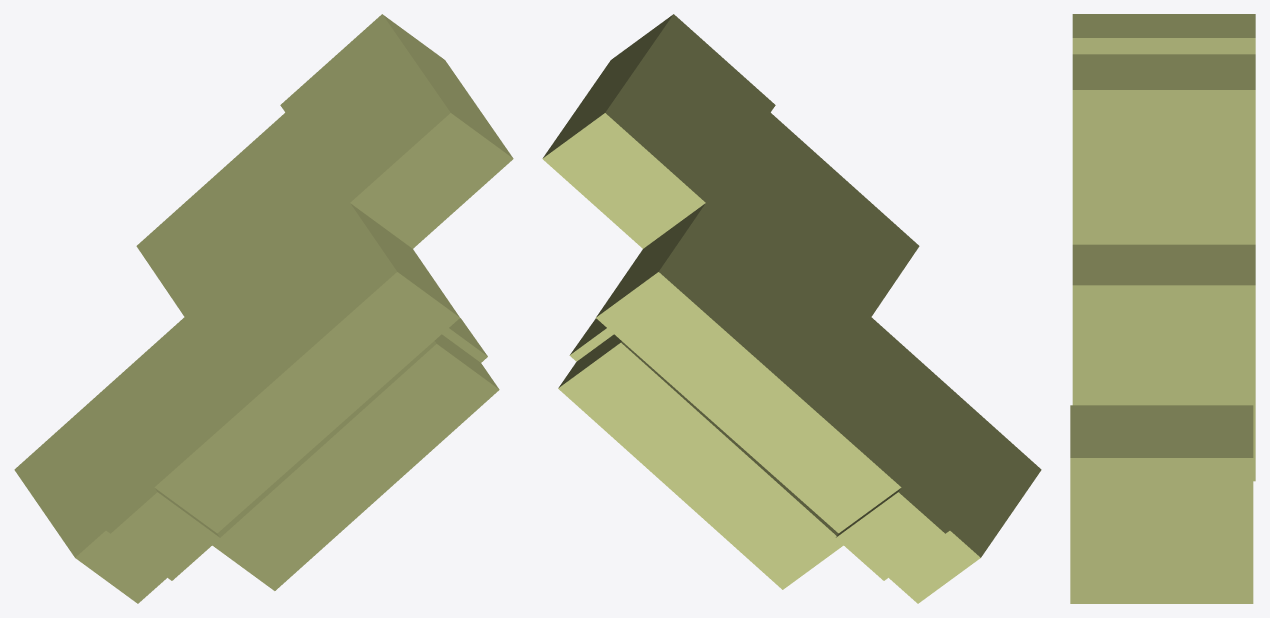
The picture shows the model from 3 angles, left to right: view 1: azimuth 30°, elevation 25°; view 2: azimuth 150°, elevation 25°; view 3: azimuth 270°, elevation 25°; orthographic projection. The views are drawn at different scales.
Parts seen in each view (by area): view 1: 0_3_2_3_1_1_0_1_0; view 2: 0_3_2_3_1_1_0_1_0; view 3: 0_3_2_3_1_1_0_1_0.
Part boxes in pixels (x1,y1,x2,y2): 0_3_2_3_1_1_0_1_0: (14, 14, 513, 603); 0_3_2_3_1_1_0_1_0: (542, 14, 1041, 603); 0_3_2_3_1_1_0_1_0: (1070, 14, 1255, 603).
Bounding box in the file's own units: 36.05 × 38.59 × 9.12.
